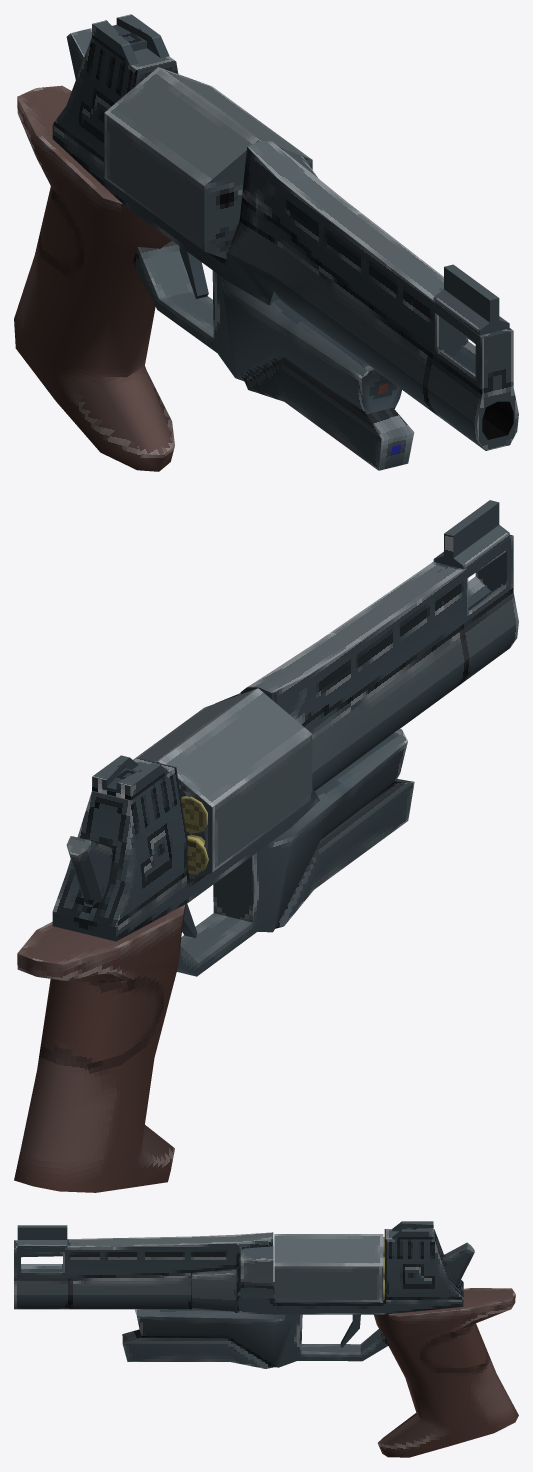
Rendered from magnum2.glb.
3 views of the same model, one above another, from view 1: azimuth 30°, elevation 25°; view 2: azimuth 150°, elevation 25°; view 3: azimuth 270°, elevation 25° (orthographic). The views are drawn at different scales.
Visible parts, largest first — view 1: Cube; view 2: Cube; view 3: Cube.
Part boxes in pixels (box(x1,y1,x2,y2)): Cube: box(14, 14, 518, 471); Cube: box(14, 500, 518, 1192); Cube: box(14, 1221, 518, 1457).
Size of the model in its own units: 0.3253 by 1.2 by 2.42.
Materials: 1 (1 with a texture image).
